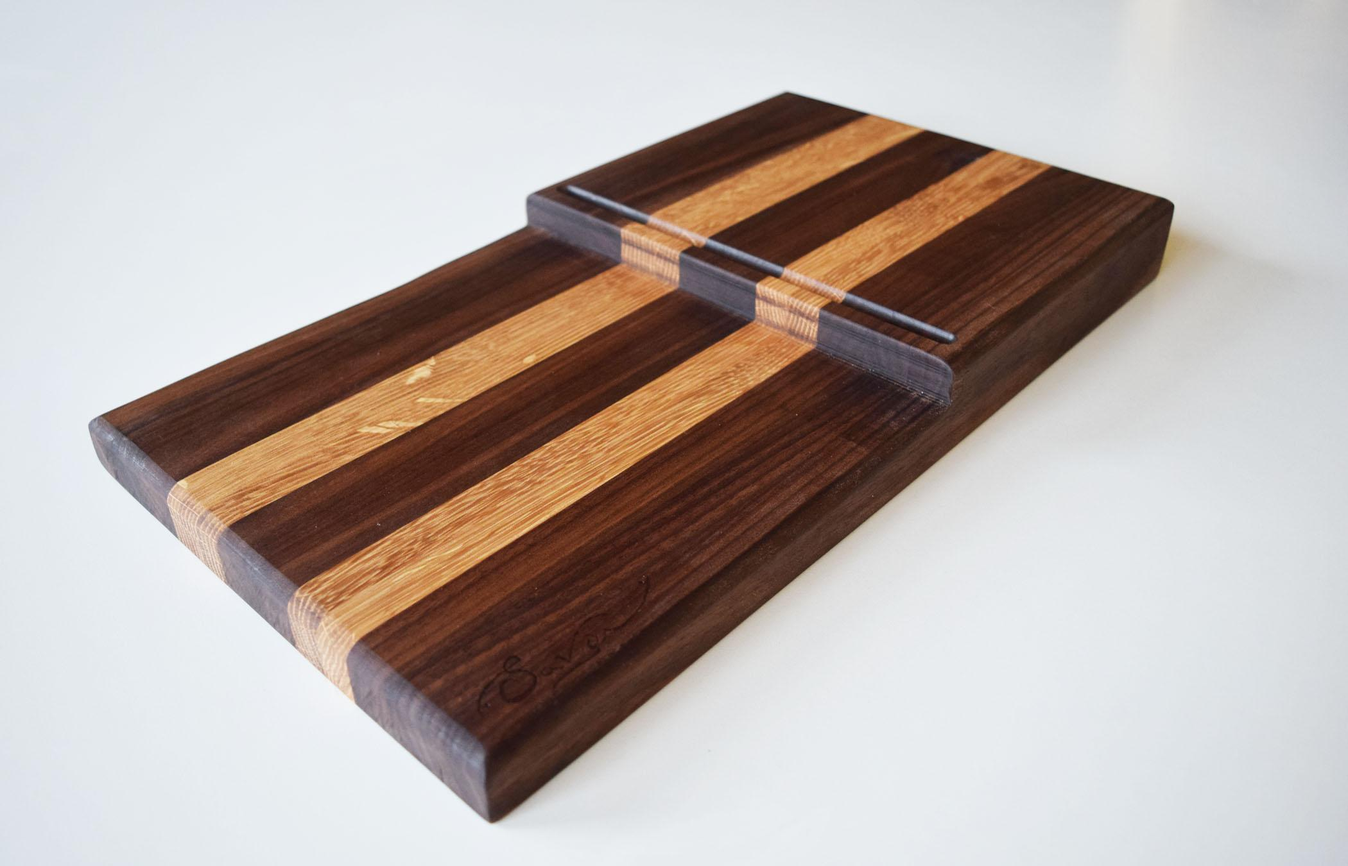gloved_hand: (82, 80, 1178, 824)
